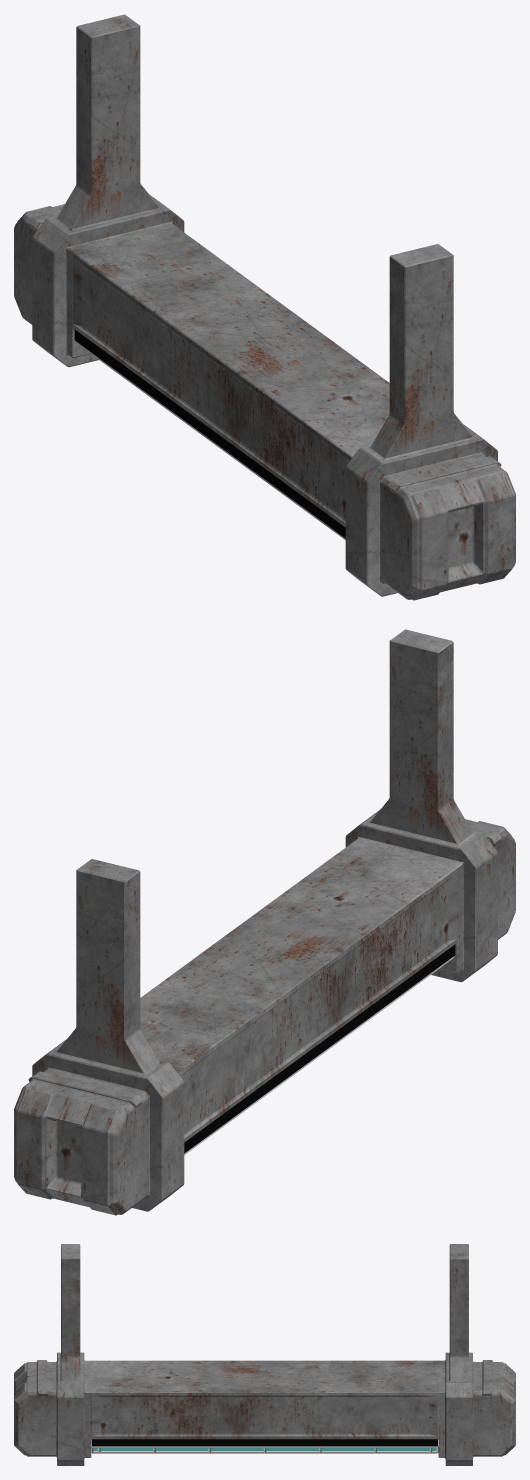
File: Techo_Luces.fbx
The picture shows the model from 3 angles, top to bottom: view 1: azimuth 30°, elevation 25°; view 2: azimuth 150°, elevation 25°; view 3: azimuth 270°, elevation 25°; orthographic projection. The views are drawn at different scales.
Visible parts, largest first — view 1: Plane.039, Plane.044, Plane.045; view 2: Plane.039, Plane.044, Plane.045; view 3: Plane.039, Plane.044, Plane.045.
Boxes of the visible parts, bbox=[...] form: Plane.039: bbox=[14, 14, 515, 600]; Plane.044: bbox=[74, 329, 345, 538]; Plane.045: bbox=[75, 341, 345, 539]; Plane.039: bbox=[14, 629, 515, 1215]; Plane.044: bbox=[184, 944, 455, 1153]; Plane.045: bbox=[184, 956, 454, 1154]; Plane.039: bbox=[14, 1244, 515, 1465]; Plane.044: bbox=[92, 1439, 437, 1451]; Plane.045: bbox=[91, 1439, 438, 1453].
Size of the model in its own units: 67.99 by 160 by 364.
Materials: 3 (1 with a texture image).
